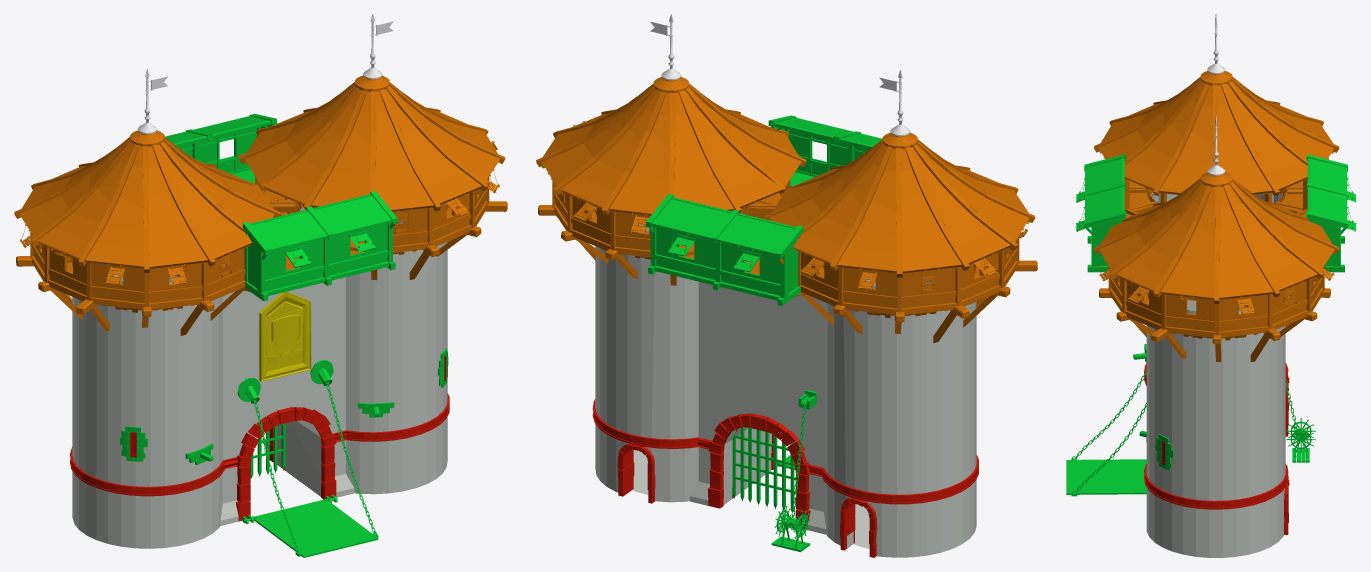
The model's file is Goal_2 (1).fbx.
The picture shows the model from 3 angles, left to right: view 1: azimuth 30°, elevation 25°; view 2: azimuth 150°, elevation 25°; view 3: azimuth 270°, elevation 25°; orthographic projection. The views are drawn at different scales.
Visible parts, largest first — view 1: a, Group_5.003, a.001, Group_5.005, Group_2.007; view 2: a, Group_5.005, Group_5.010; view 3: a, Group_5.003, Group_5.010, a.001, Group_2.004.
Boxes of the visible parts, x1,y1,x2,y2 form: a: (14,75,507,548); Group_5.003: (242,494,378,557); a.001: (254,382,375,551); Group_5.005: (250,423,285,478); Group_2.007: (120,426,147,461); a: (536,77,1037,557); Group_5.005: (732,427,795,511); Group_5.010: (771,389,816,552); a: (1075,71,1356,557); Group_5.003: (1066,456,1146,496); Group_5.010: (1285,379,1315,462); a.001: (1075,369,1146,492); Group_2.004: (1155,434,1173,470).
Bounding box in the file's own units: 2240 × 2109 × 1340.
